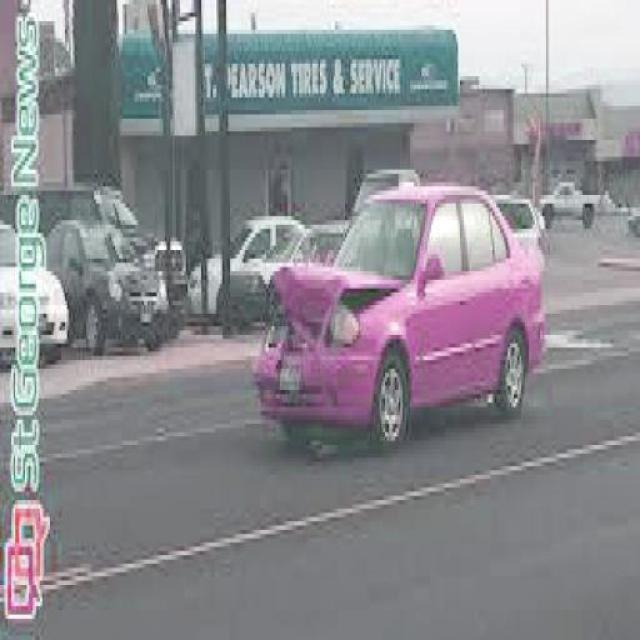Car-Damage: (263, 264, 403, 388)
